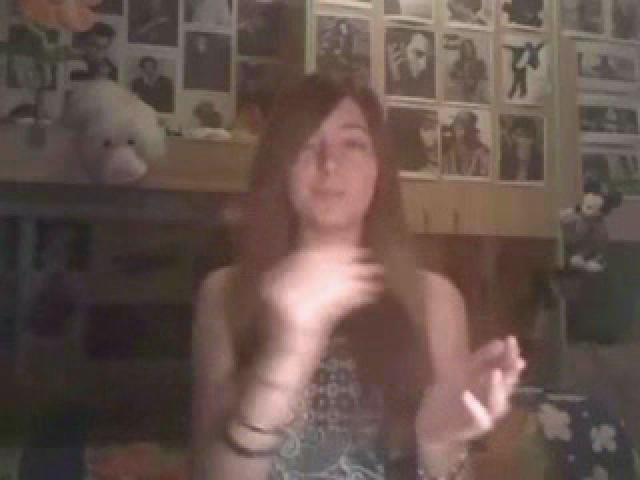F: (174, 65, 484, 480)
